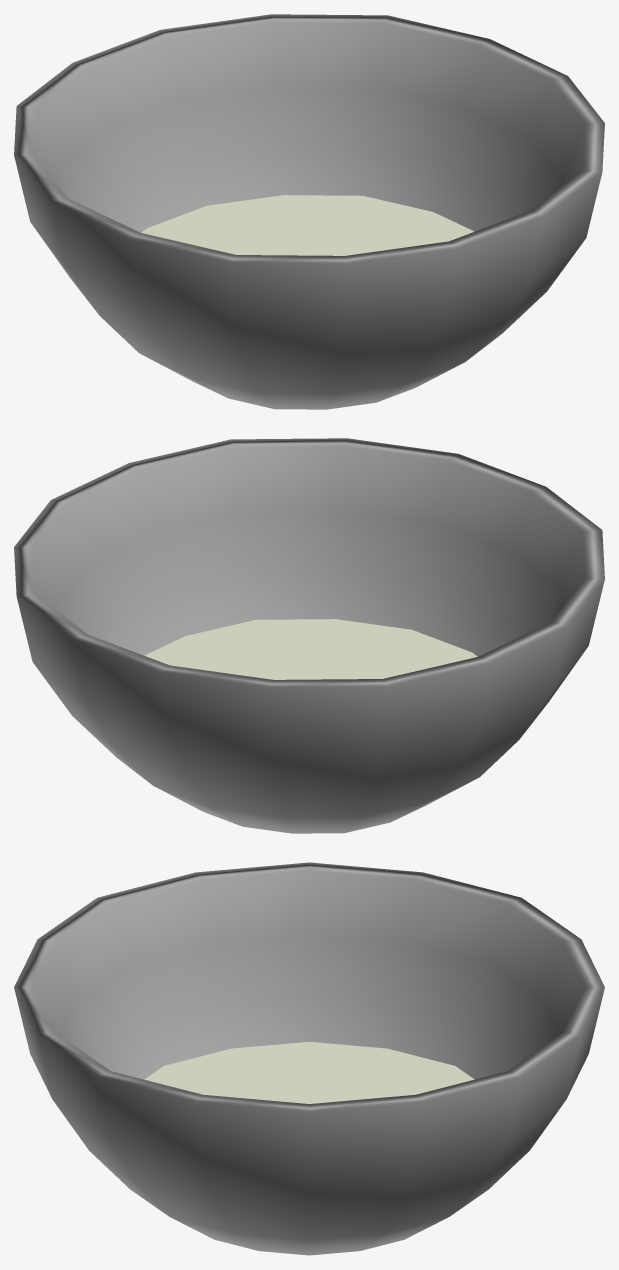
File: bou3.fbx
3 renders of one model, top to bottom at view 1: azimuth 30°, elevation 25°; view 2: azimuth 150°, elevation 25°; view 3: azimuth 270°, elevation 25°, orthographic.
Visible parts, largest first — view 1: polySurface1, polySurface2; view 2: polySurface1, polySurface2; view 3: polySurface1, polySurface2.
Part boxes in pixels (box(x1,y1,x2,y2)): polySurface1: box(14, 14, 604, 409); polySurface2: box(141, 195, 474, 255); polySurface1: box(14, 438, 604, 833); polySurface2: box(144, 619, 477, 679); polySurface1: box(14, 862, 604, 1255); polySurface2: box(144, 1041, 474, 1103).
Size of the model in its own units: 12.68 by 5.03 by 12.68.
